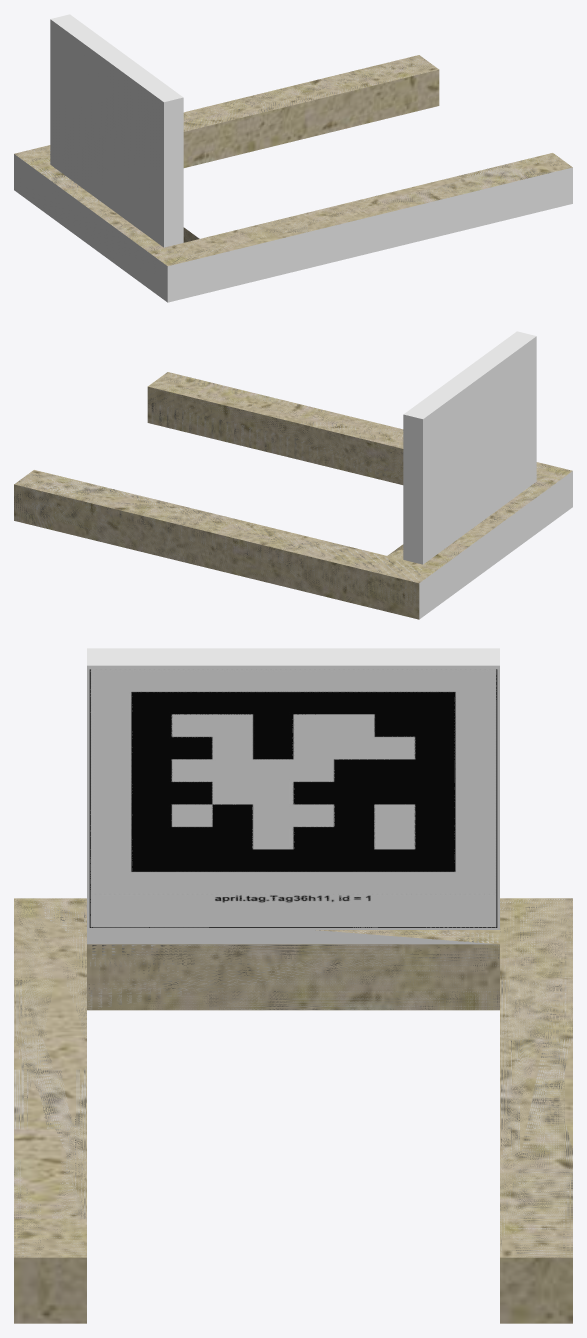
Rendered from dock_gate_red_cross.dae.
3 views of the same model, one above another, from view 1: azimuth 30°, elevation 25°; view 2: azimuth 150°, elevation 25°; view 3: azimuth 270°, elevation 25° (orthographic). The views are drawn at different scales.
Visible parts, largest first — view 1: Component2 (×4); view 2: Component2 (×3); view 3: Component2 (×5), image_0.
Boxes of the visible parts, x1,y1,x2,y2 form: Component2 (×4): [14, 14, 572, 302]; Component2 (×3): [14, 331, 572, 619]; Component2 (×5): [14, 648, 572, 1323]; image_0: [89, 669, 497, 927].
Bounding box in the file's own units: 121 × 79.59 × 51.91.
